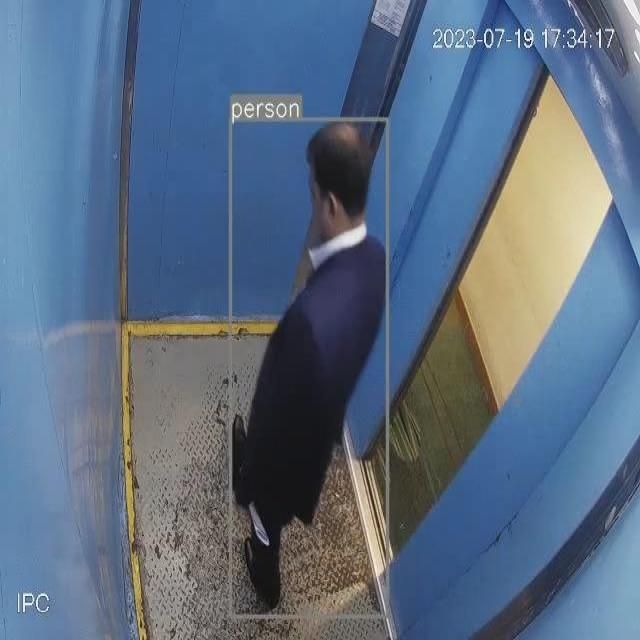person: (232, 118, 390, 618)
